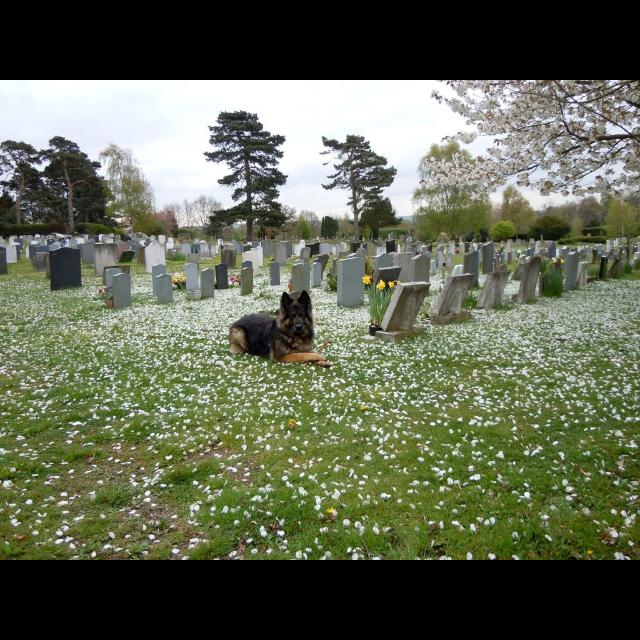Flower: (1, 268, 640, 560), (416, 80, 640, 198), (363, 274, 373, 286), (375, 280, 381, 290), (360, 274, 366, 282), (388, 281, 394, 287)
